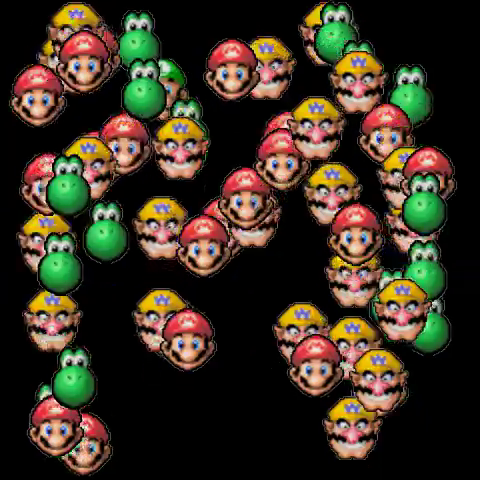luigi: (155, 56, 195, 104)
